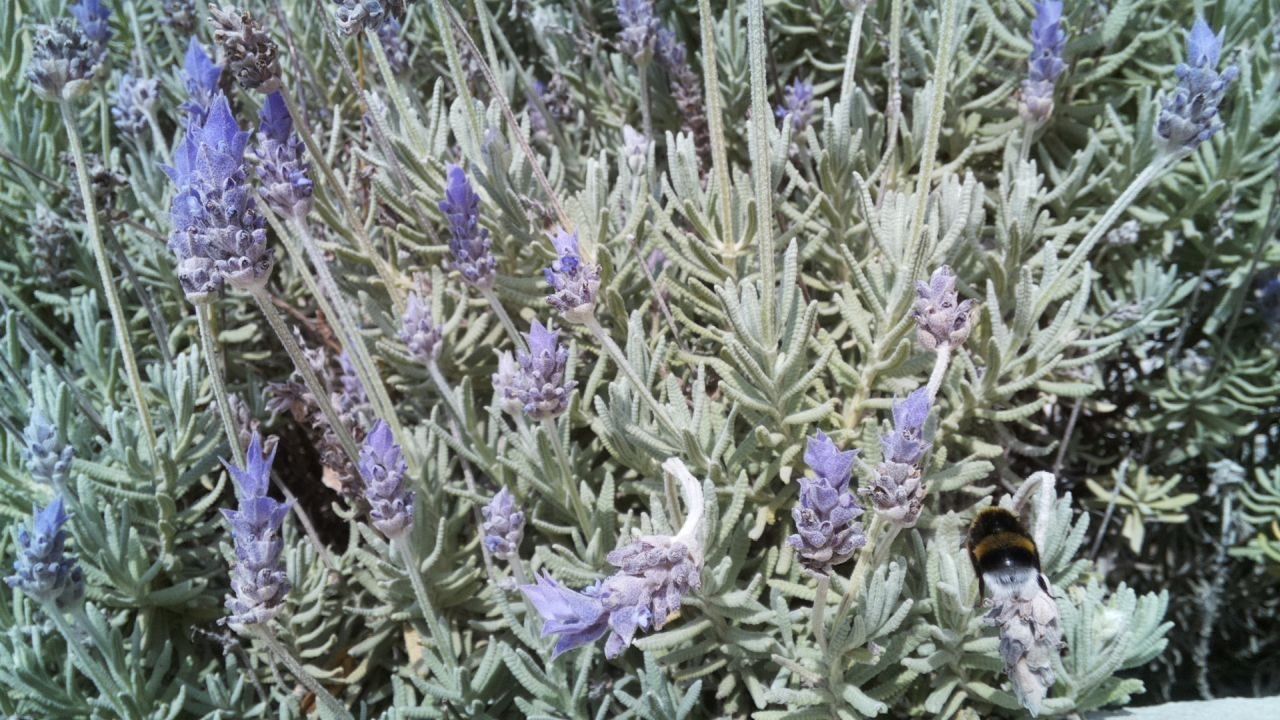Bombus terrestris: (960, 502, 1064, 608)
